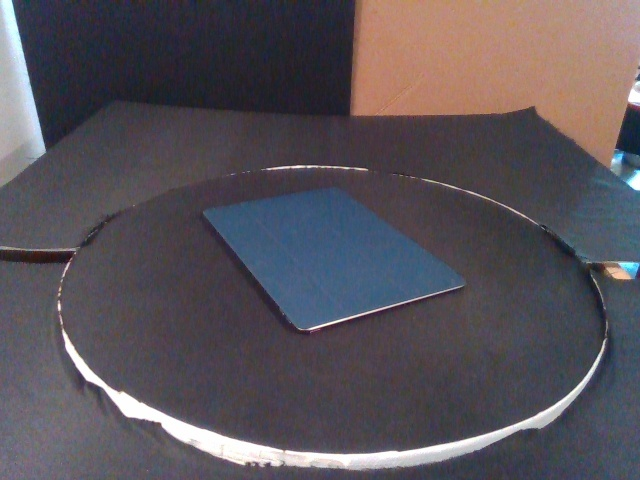laptop: (202, 185, 469, 335)
